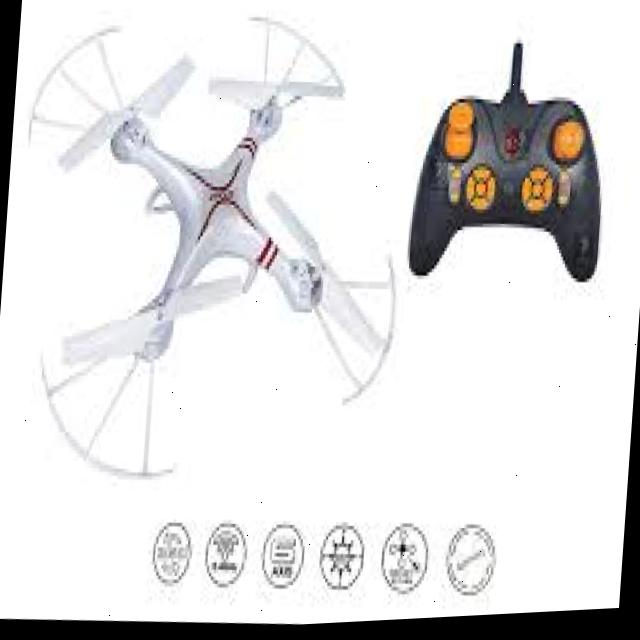drone: (0, 0, 425, 517)
